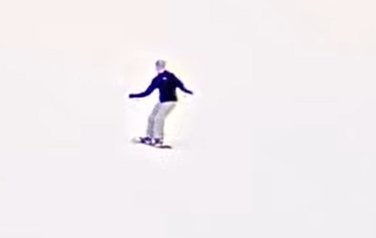snowboarder: (120, 56, 196, 152)
